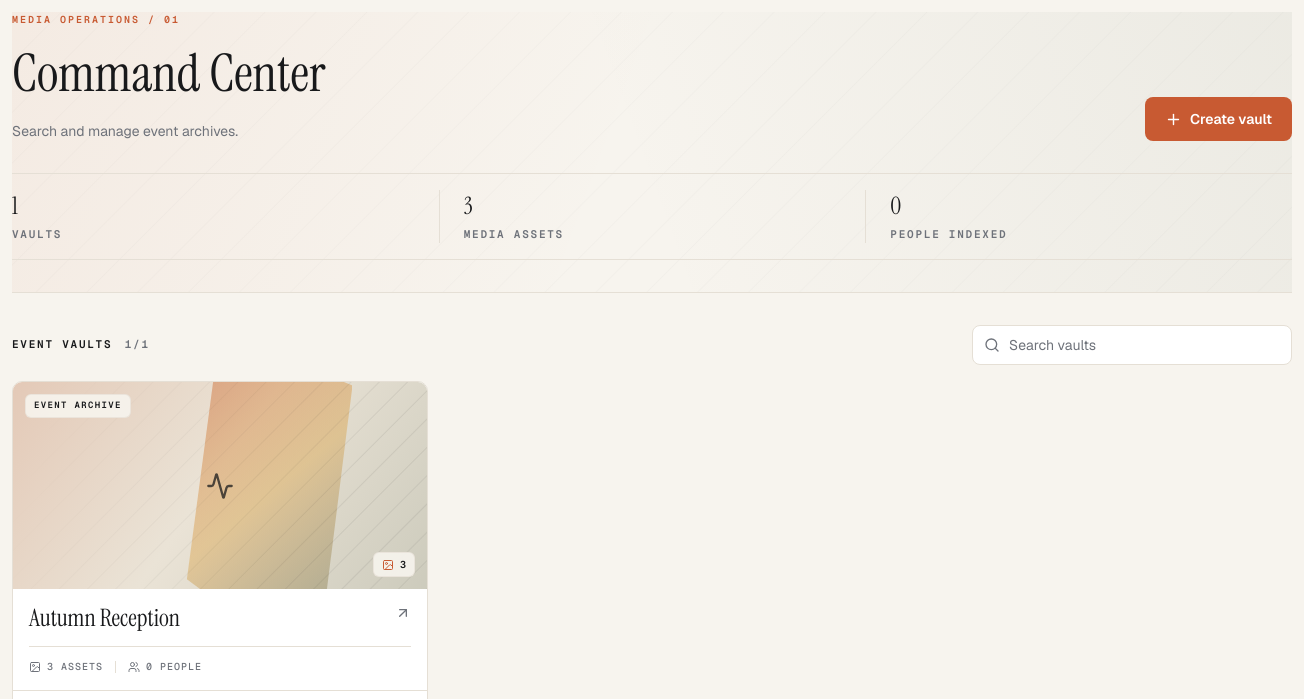
Scenario: AdminDashboardClient › shows archive totals and filters vaults with an explicit empty state
Expected: the text "1/1" is shown, top-left (125, 337), bottom-right (150, 351)
Expected: the text "Media assets" is shown, top-left (464, 227), bottom-right (564, 241)
Type "missing" into the search field named "search event vaults" at (1132, 344), box top-left (972, 324), bottom-right (1292, 364)
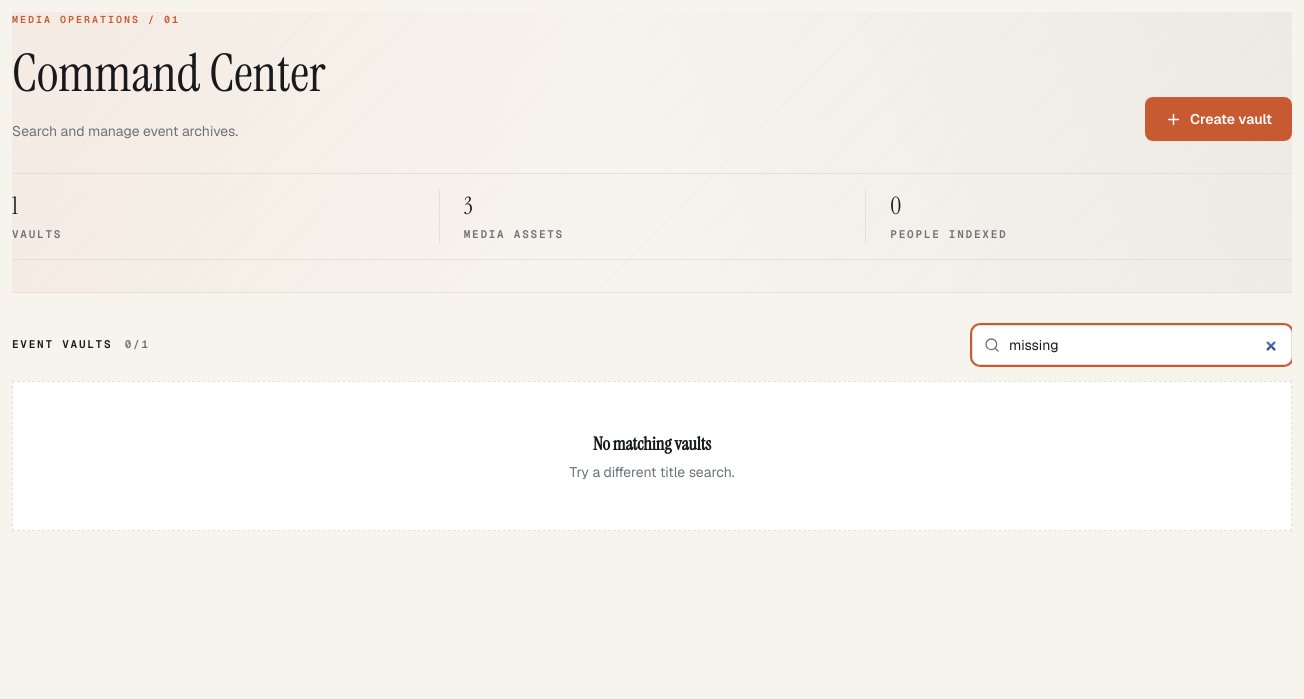
Expected: the message shows "No matching vaults", top-left (593, 432), bottom-right (711, 456)
Expected: the link "Autumn Reception" is gone
